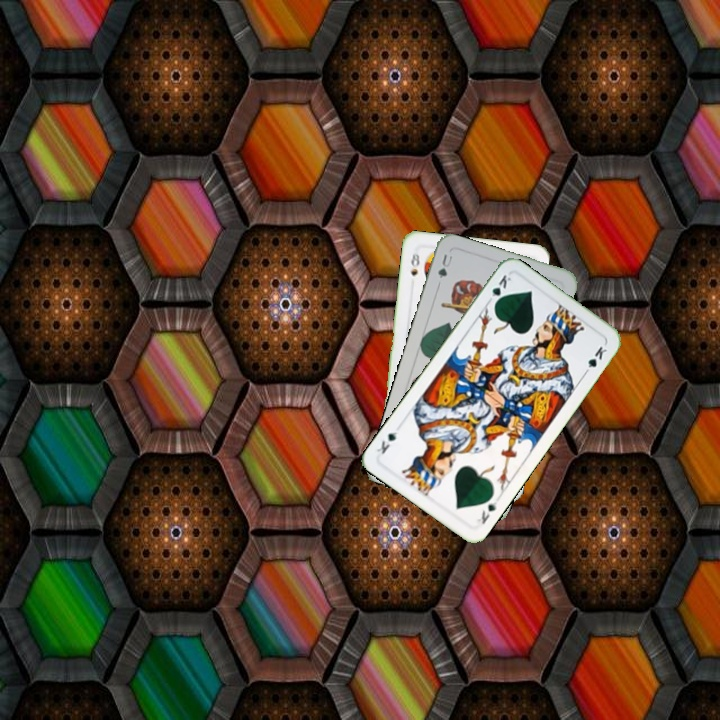GK: (483, 270, 514, 308), (472, 493, 500, 527)
GU: (434, 250, 456, 281)
S8: (406, 249, 422, 279)
